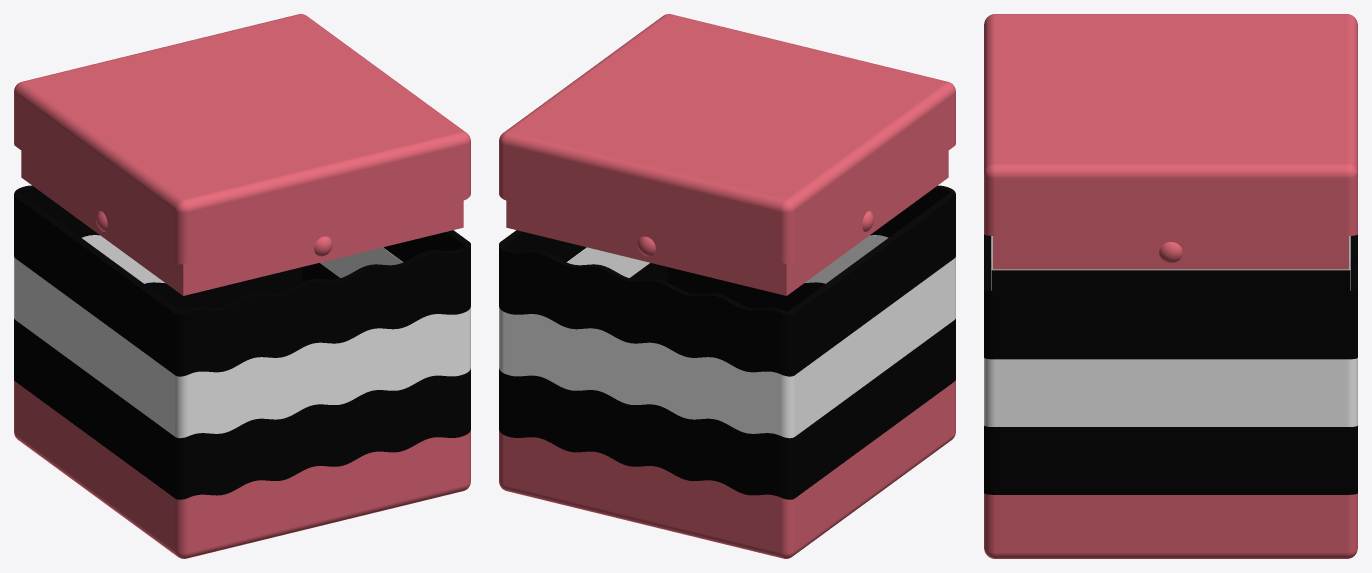
The model's file is liquorice_allsort_box_and_lid_100_v7_exploded.glb.
3 views of the same model, side by side, from view 1: azimuth 30°, elevation 25°; view 2: azimuth 150°, elevation 25°; view 3: azimuth 270°, elevation 25° (orthographic). The views are drawn at different scales.
Parts seen in each view (by area): view 1: liquorice_allsort_box_and_lid_100_v7_5, liquorice_allsort_box_and_lid_100_v7_4, liquorice_allsort_box_and_lid_100_v7_2, liquorice_allsort_box_and_lid_100_v7_3, liquorice_allsort_box_and_lid_100_v7_1; view 2: liquorice_allsort_box_and_lid_100_v7_5, liquorice_allsort_box_and_lid_100_v7_4, liquorice_allsort_box_and_lid_100_v7_2, liquorice_allsort_box_and_lid_100_v7_3, liquorice_allsort_box_and_lid_100_v7_1; view 3: liquorice_allsort_box_and_lid_100_v7_5, liquorice_allsort_box_and_lid_100_v7_2, liquorice_allsort_box_and_lid_100_v7_4, liquorice_allsort_box_and_lid_100_v7_3, liquorice_allsort_box_and_lid_100_v7_1.
Boxes of the visible parts, <box> form: liquorice_allsort_box_and_lid_100_v7_5: <box>14,14,470,295</box>; liquorice_allsort_box_and_lid_100_v7_4: <box>14,185,470,376</box>; liquorice_allsort_box_and_lid_100_v7_2: <box>14,263,470,499</box>; liquorice_allsort_box_and_lid_100_v7_3: <box>14,235,470,438</box>; liquorice_allsort_box_and_lid_100_v7_1: <box>14,380,470,558</box>; liquorice_allsort_box_and_lid_100_v7_5: <box>499,14,955,295</box>; liquorice_allsort_box_and_lid_100_v7_4: <box>499,185,955,376</box>; liquorice_allsort_box_and_lid_100_v7_2: <box>499,263,955,499</box>; liquorice_allsort_box_and_lid_100_v7_3: <box>499,235,955,438</box>; liquorice_allsort_box_and_lid_100_v7_1: <box>499,380,955,558</box>; liquorice_allsort_box_and_lid_100_v7_5: <box>984,14,1357,269</box>; liquorice_allsort_box_and_lid_100_v7_2: <box>984,270,1357,494</box>; liquorice_allsort_box_and_lid_100_v7_4: <box>984,234,1357,359</box>; liquorice_allsort_box_and_lid_100_v7_3: <box>984,236,1357,426</box>; liquorice_allsort_box_and_lid_100_v7_1: <box>984,493,1357,558</box>.
Size of the model in its own units: 10 by 11.64 by 10.
